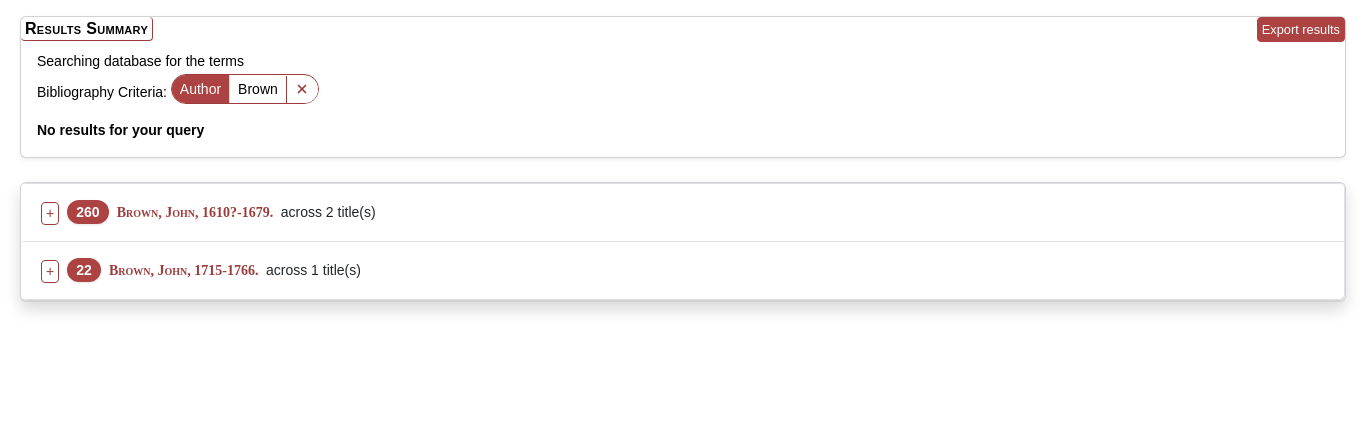
it: Aggregation › expands breakdown on button click
Click the button "+" next to "260": (50, 213) [41,202,59,225]
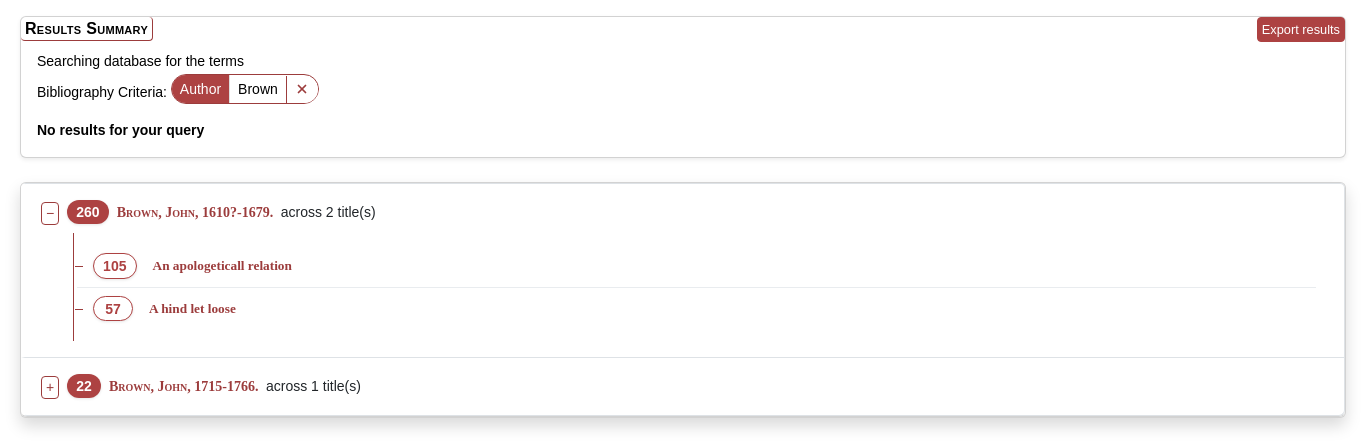
expect the button "−" is expanded: met, box [41,202,59,225]
